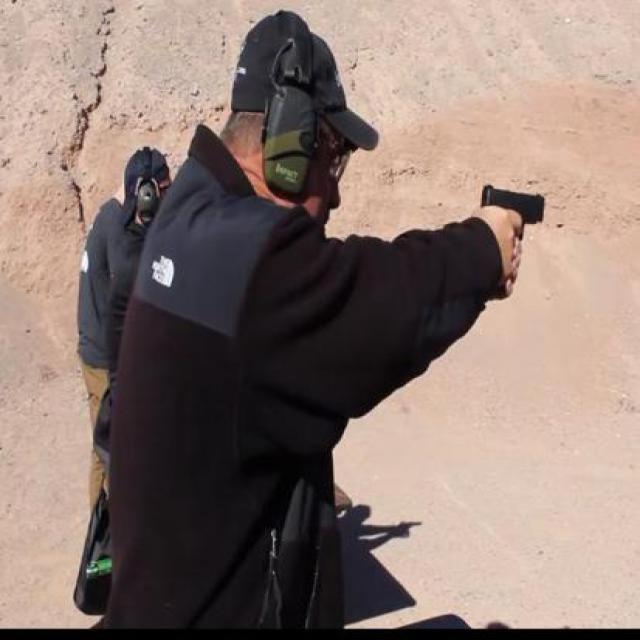weapon: (480, 184, 548, 300)
